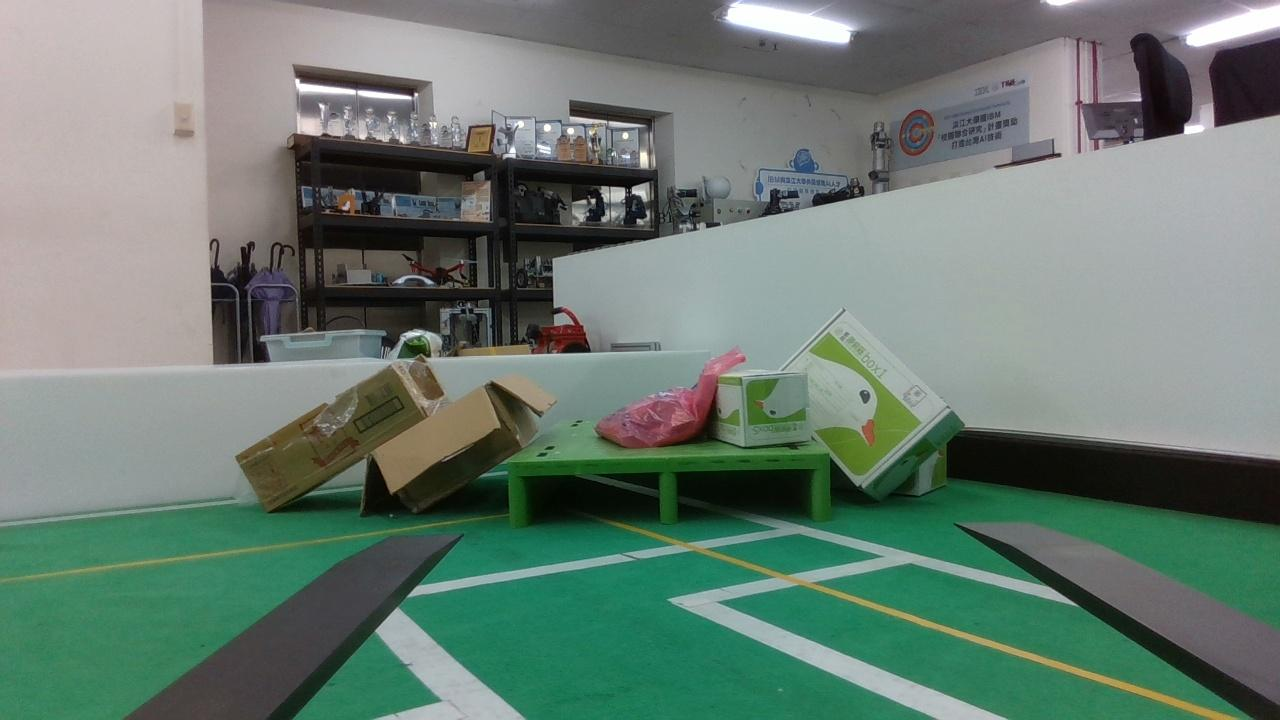Pallet: (505, 448, 831, 526)
